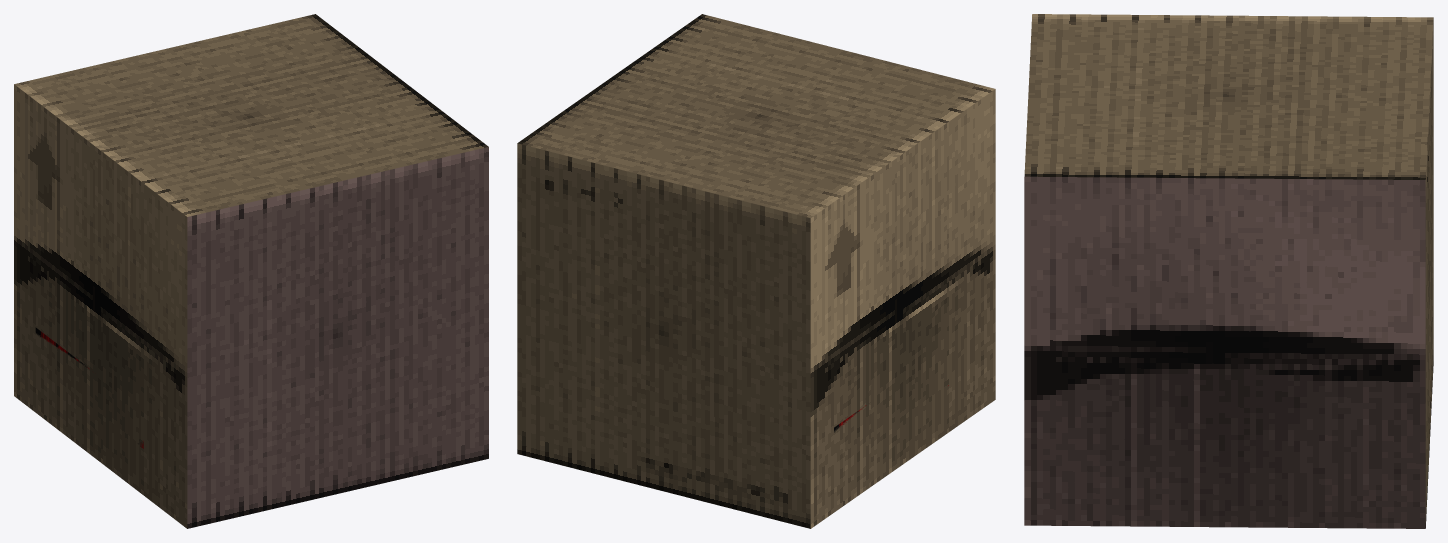
The model's file is primary_067.glb.
The picture shows the model from 3 angles, left to right: view 1: azimuth 30°, elevation 25°; view 2: azimuth 150°, elevation 25°; view 3: azimuth 270°, elevation 25°; orthographic projection. The views are drawn at different scales.
Visible parts, largest first — view 1: Object; view 2: Object; view 3: Object.
Part boxes in pixels (x1=…): Object: x1=14, y1=14, x2=488, y2=528; Object: x1=517, y1=14, x2=995, y2=528; Object: x1=1024, y1=14, x2=1433, y2=528.
Size of the model in its own units: 1.09 by 1.07 by 1.14.
Materials: 7 (7 with a texture image).
